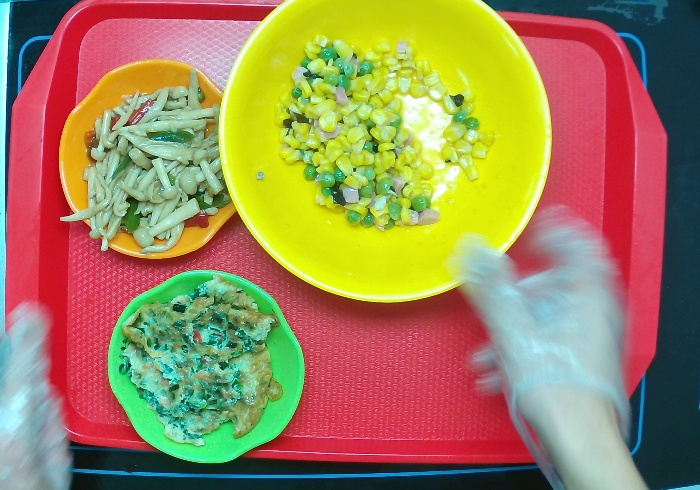YKMZ-Huang_Se_Tang_Wan: (221, 1, 559, 304)
YKMZ-Ju_Se_Ao_Bian_Wan: (55, 55, 243, 262)
YKMZ-Lv_Se_Ao_Bian_Wan: (107, 273, 303, 467)
